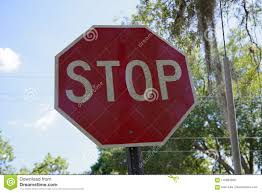Stop: (55, 21, 207, 160)
